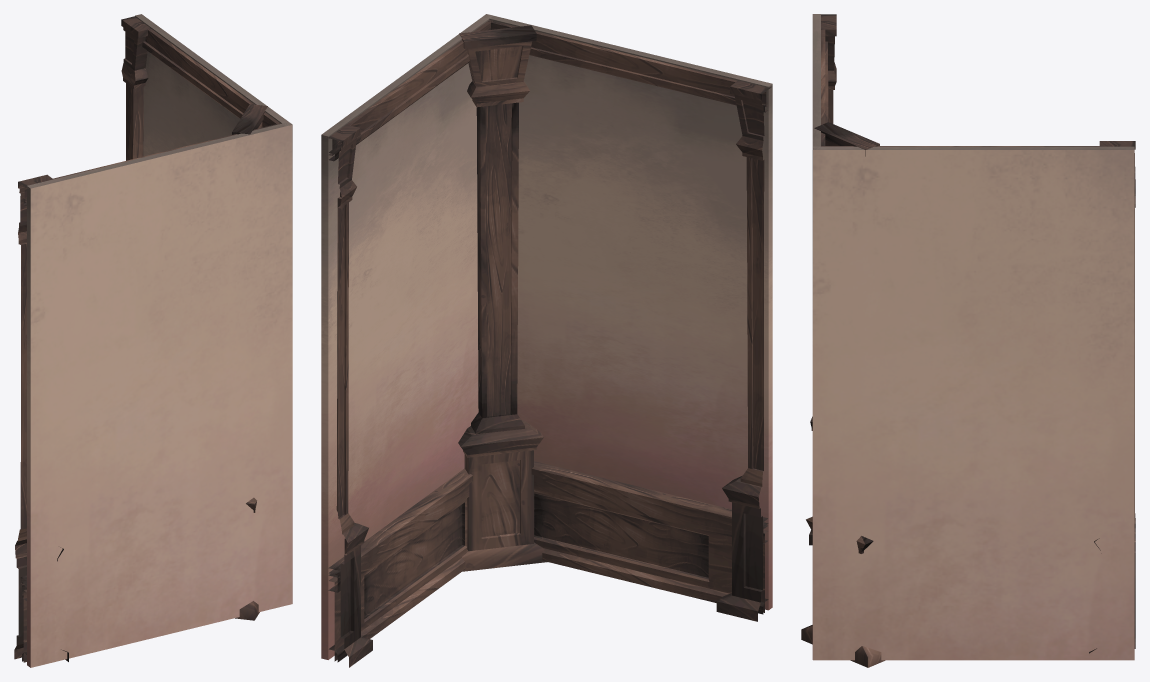
Rendered from Mesh_Wall_Innercorner.fbx.
The picture shows the model from 3 angles, left to right: view 1: azimuth 30°, elevation 25°; view 2: azimuth 150°, elevation 25°; view 3: azimuth 270°, elevation 25°; orthographic projection. The views are drawn at different scales.
Visible parts, largest first — view 1: Inner_Corner_Wall; view 2: Inner_Corner_Wall; view 3: Inner_Corner_Wall.
Boxes of the visible parts, x1,y1,x2,y2 form: Inner_Corner_Wall: [14, 14, 292, 667]; Inner_Corner_Wall: [321, 14, 772, 667]; Inner_Corner_Wall: [801, 14, 1135, 667].
Bounding box in the file's own units: 0.6292 × 1.06 × 0.6242.
